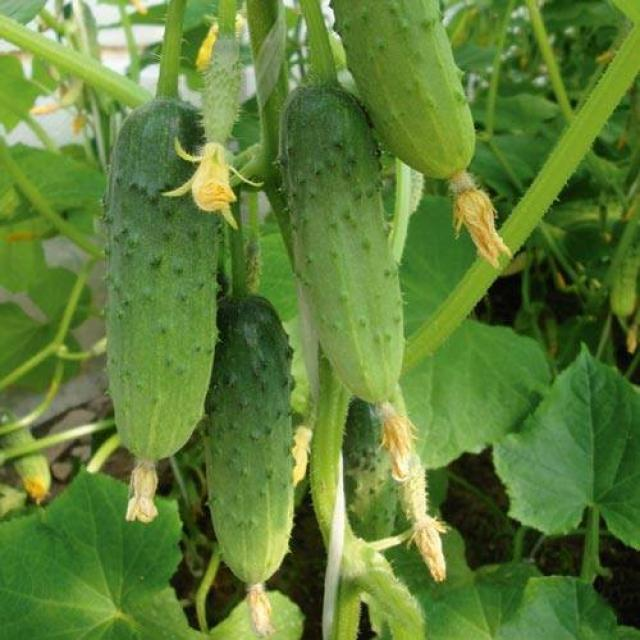cucumber: (102, 103, 218, 459), (279, 86, 405, 404), (200, 290, 295, 581), (327, 0, 475, 181)
